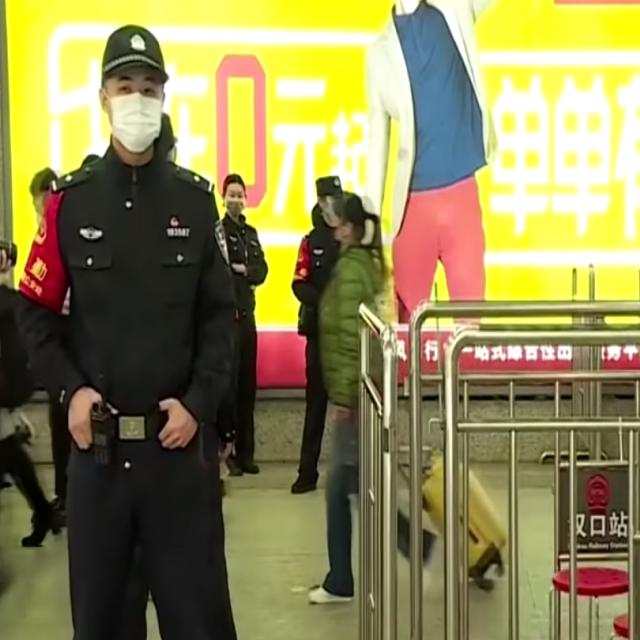hat: (97, 23, 167, 80)
